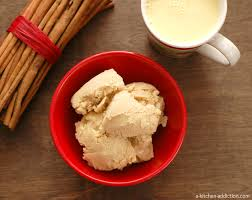ice-cream: (72, 69, 164, 172)
